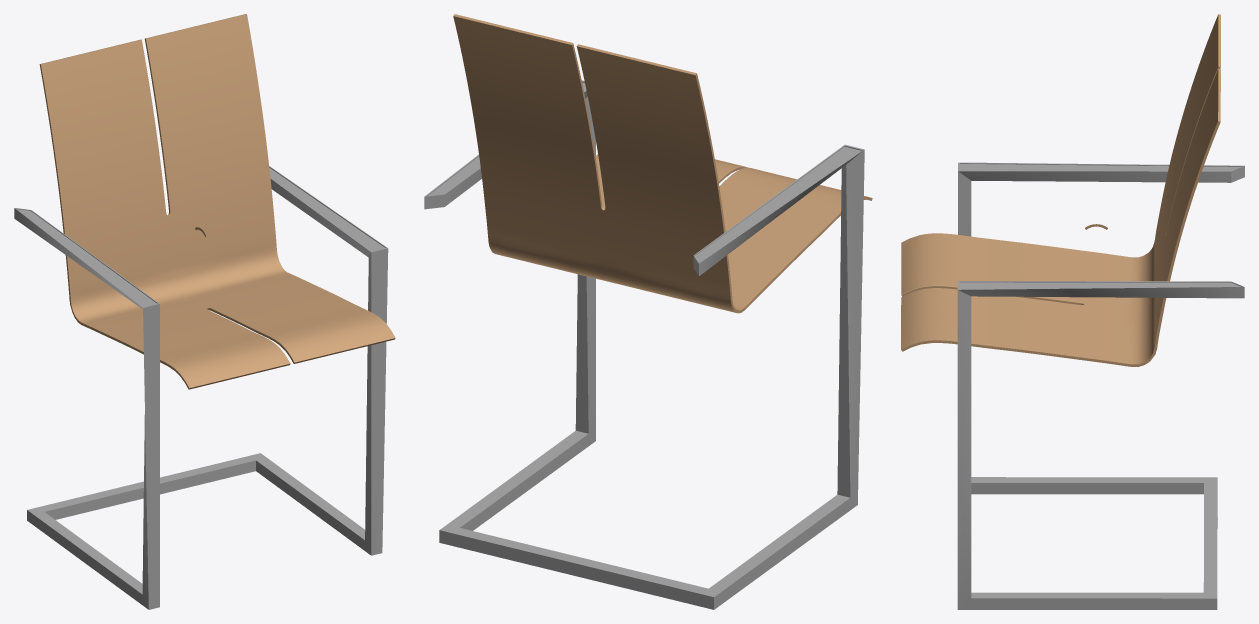
The model's file is chair.glb.
3 renders of one model, left to right at view 1: azimuth 30°, elevation 25°; view 2: azimuth 150°, elevation 25°; view 3: azimuth 270°, elevation 25°, orthographic. The views are drawn at different scales.
Visible parts, largest first — view 1: Chair_1; view 2: Chair_1; view 3: Chair_1.
Part boxes in pixels (x1,y1,x2,y2): Chair_1: [14, 14, 395, 609]; Chair_1: [424, 14, 872, 609]; Chair_1: [901, 14, 1244, 609].
Bounding box in the file's own units: 0.445 × 0.7854 × 0.5078.
